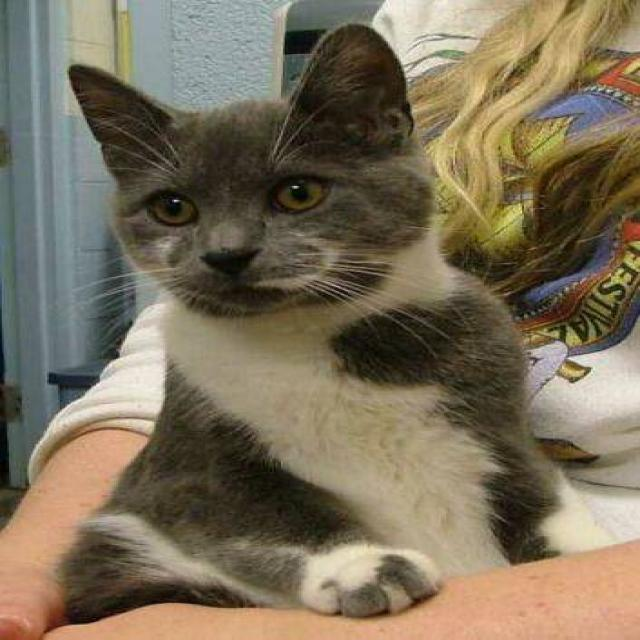cat: (53, 22, 620, 623)
